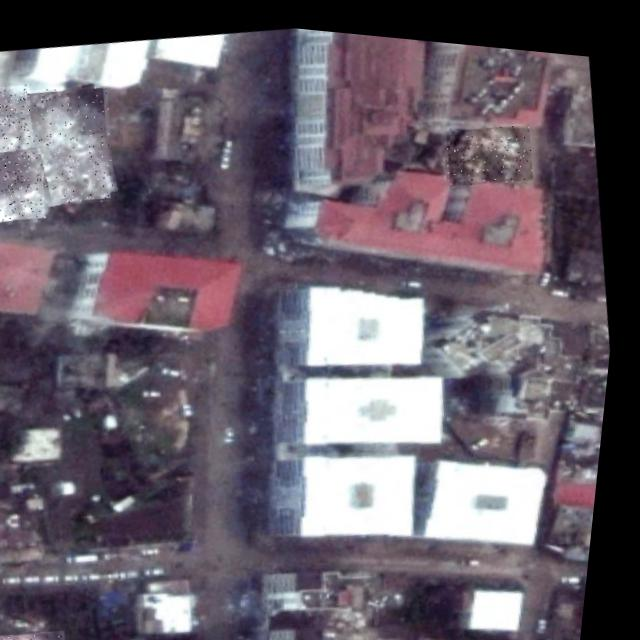Rubble: (14, 75, 127, 212), (441, 107, 539, 183), (0, 142, 54, 226), (0, 81, 40, 163), (2, 622, 87, 640)
